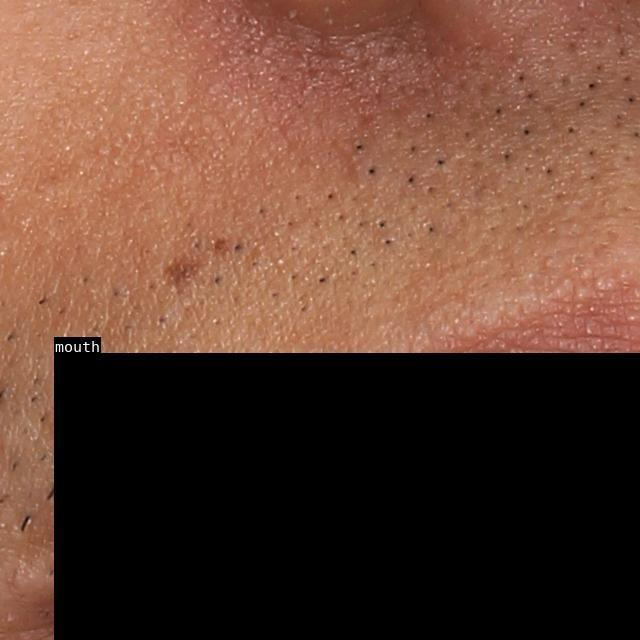nevus: (162, 250, 204, 290)
